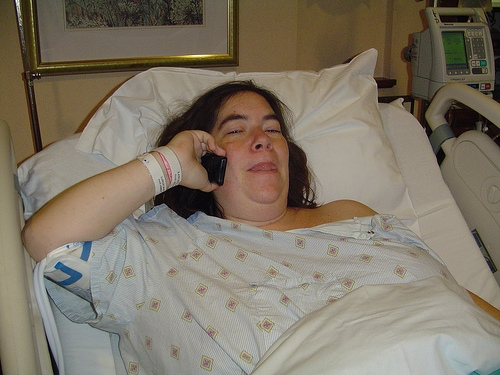phone: (182, 140, 227, 189)
talk: (175, 114, 290, 207)
